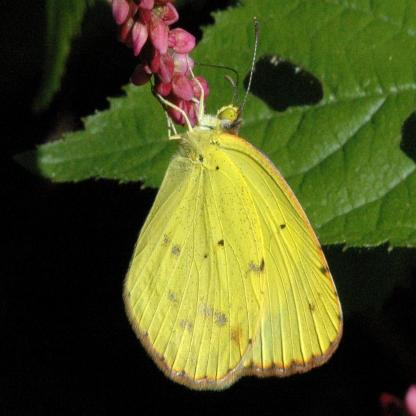other: (129, 125, 347, 384)
